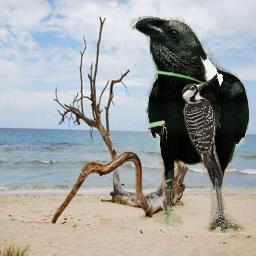Crow: (129, 16, 249, 233)
Woodpecker: (182, 81, 223, 189)
